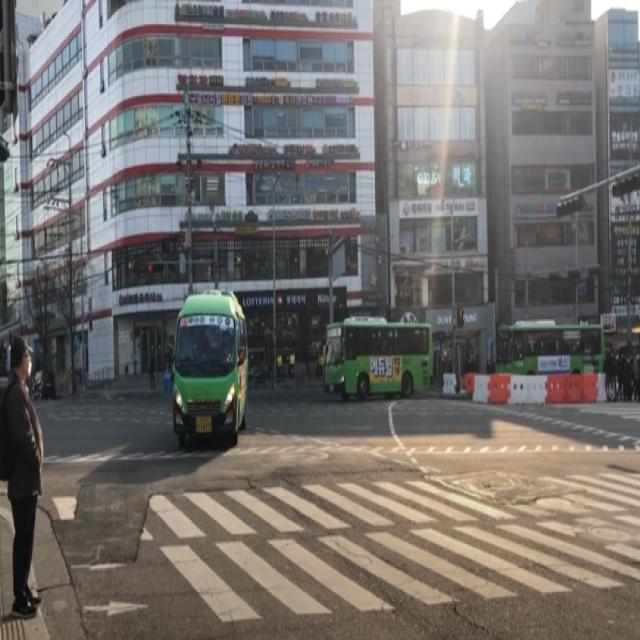bus-number: (180, 316, 188, 327)
